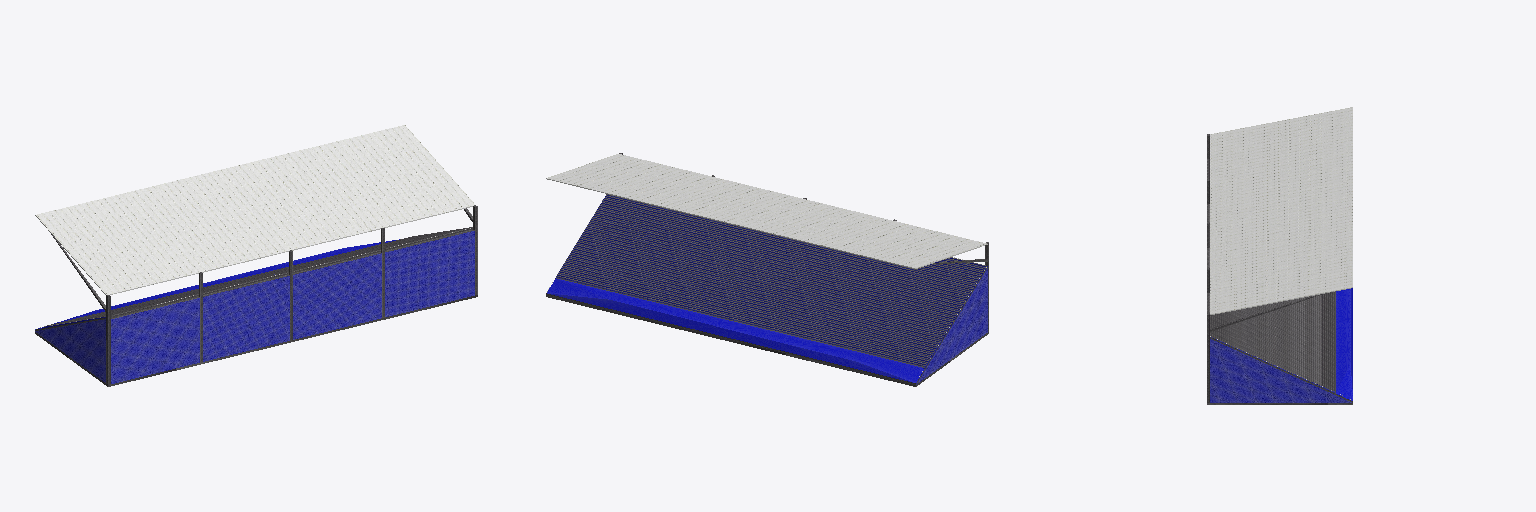
3 renders of one model, left to right at view 1: azimuth 30°, elevation 25°; view 2: azimuth 150°, elevation 25°; view 3: azimuth 270°, elevation 25°, orthographic.
Visible parts, largest first — view 1: Cube.006_Cube.007, Plane.007_Plane.018, Plane.003_Plane.014, Plane.004_Plane.015, Plane.006_Plane.017, Plane, Plane.002_Plane.013, Cube.008_Cube.009, Cube_Cube.001, Cube.007_Cube.008; view 2: Plane.002_Plane.013, Cube.006_Cube.007, Plane.014_Plane.003, Plane.009_Plane.002, Cube.008_Cube.009, Plane, Cube.007_Cube.008, Cube_Cube.001; view 3: Cube.006_Cube.007, Plane.002_Plane.013, Plane.001, Cube.008_Cube.009.
Part boxes in pixels (x1,y1,x2,y2): Cube.006_Cube.007: (35,125,474,294); Plane.007_Plane.018: (385,231,474,316); Plane.003_Plane.014: (111,298,199,383); Plane.004_Plane.015: (293,253,381,339); Plane.006_Plane.017: (203,276,289,361); Plane: (35,319,105,382); Plane.002_Plane.013: (44,227,472,326); Cube.008_Cube.009: (35,239,399,329); Cube_Cube.001: (35,295,477,386); Cube.007_Cube.008: (35,228,472,330); Plane.002_Plane.013: (557,194,986,365); Cube.006_Cube.007: (546,154,987,268); Plane.014_Plane.003: (556,195,985,366); Plane.009_Plane.002: (557,196,985,364); Cube.008_Cube.009: (547,278,924,382); Plane: (916,268,987,384); Cube.007_Cube.008: (546,267,987,384); Cube_Cube.001: (546,295,988,386); Cube.006_Cube.007: (1210,107,1352,314); Plane.002_Plane.013: (1210,292,1334,390); Plane.001: (1210,339,1351,402); Cube.008_Cube.009: (1336,288,1352,400).
Bounding box in the file's own units: 14.35 × 4.38 × 4.93.
6 materials, 4 textured.